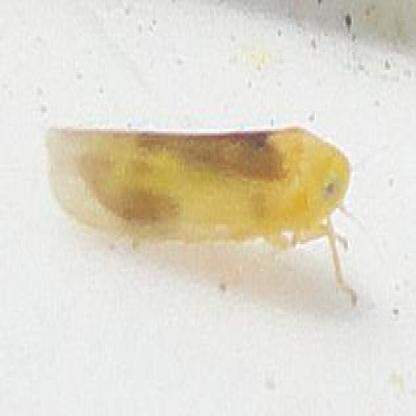green-leafhopper: (53, 119, 359, 300)
